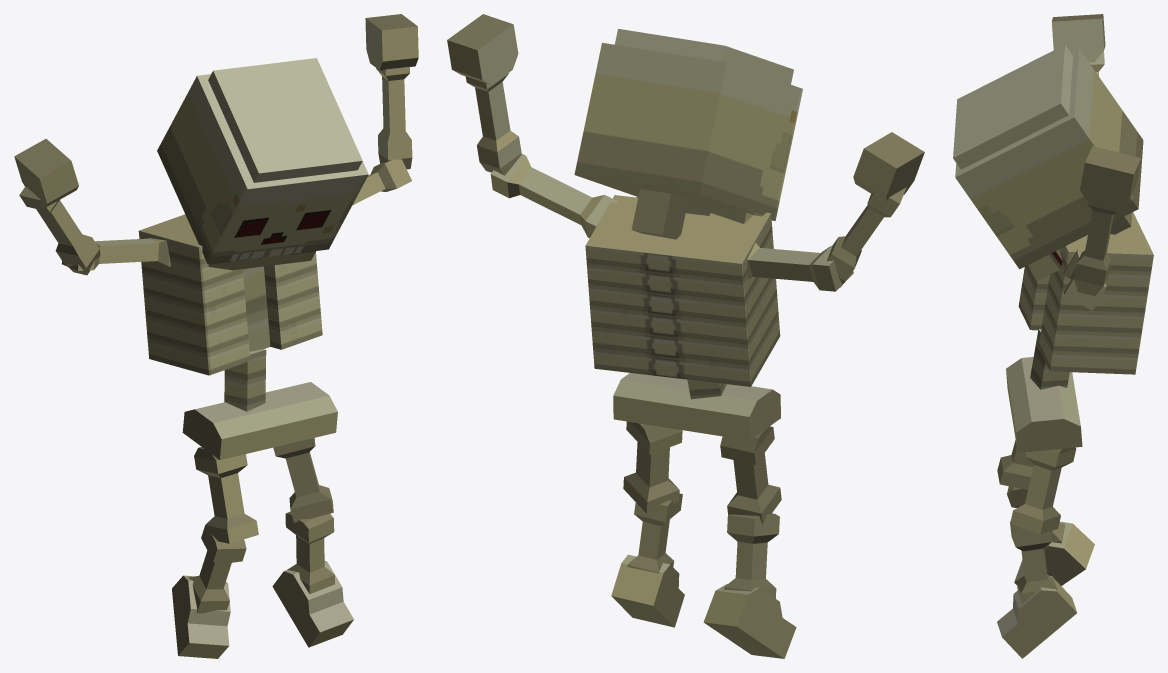
Rendered from SD_Prop_Skeleton_02.fbx.
3 renders of one model, left to right at view 1: azimuth 30°, elevation 25°; view 2: azimuth 150°, elevation 25°; view 3: azimuth 270°, elevation 25°, orthographic. The views are drawn at different scales.
Parts seen in each view (by area): view 1: SD_Prop_Skeleton_02; view 2: SD_Prop_Skeleton_02; view 3: SD_Prop_Skeleton_02.
Boxes of the visible parts, x1=… form: SD_Prop_Skeleton_02: x1=14, y1=14, x2=418, y2=658; SD_Prop_Skeleton_02: x1=447, y1=14, x2=924, y2=658; SD_Prop_Skeleton_02: x1=953, y1=14, x2=1153, y2=658.
Bounding box in the file's own units: 2.19 × 2.99 × 0.9638.
